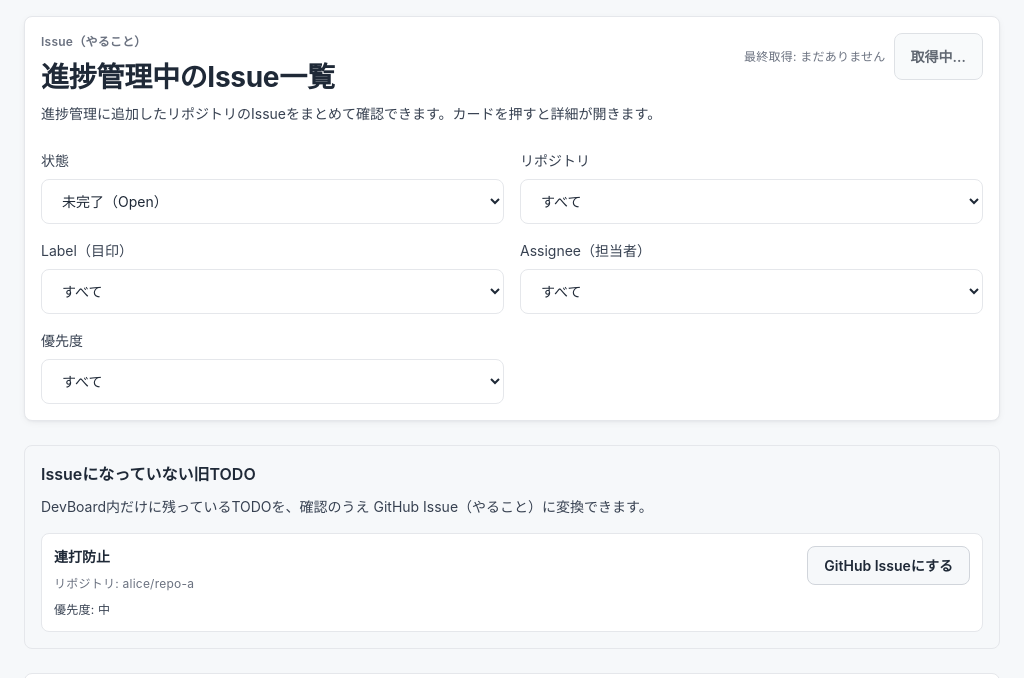
Scenario: IssuesHome › legacy unlinked todos › allows only one in-flight conversion when the button is clicked twice
The image size is (1024, 678).
Click the button "GitHub Issueにする" at x=889, y=565, box x1=807 y1=546 x2=970 y2=585
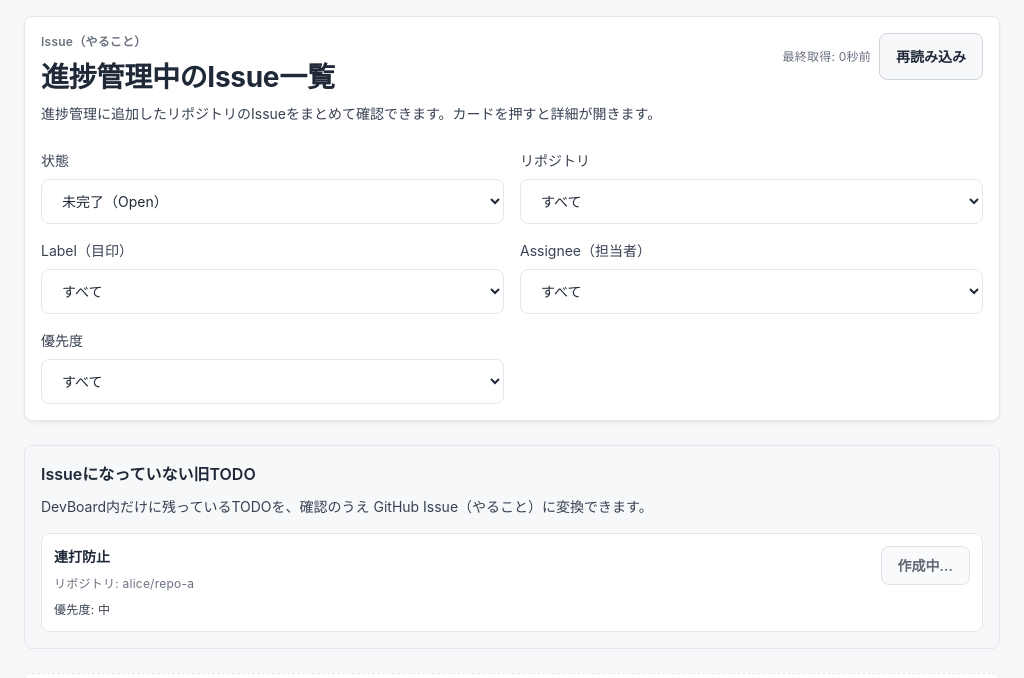
Click the button named "GitHub Issueにする" at x=925, y=565, box x1=881 y1=546 x2=970 y2=585
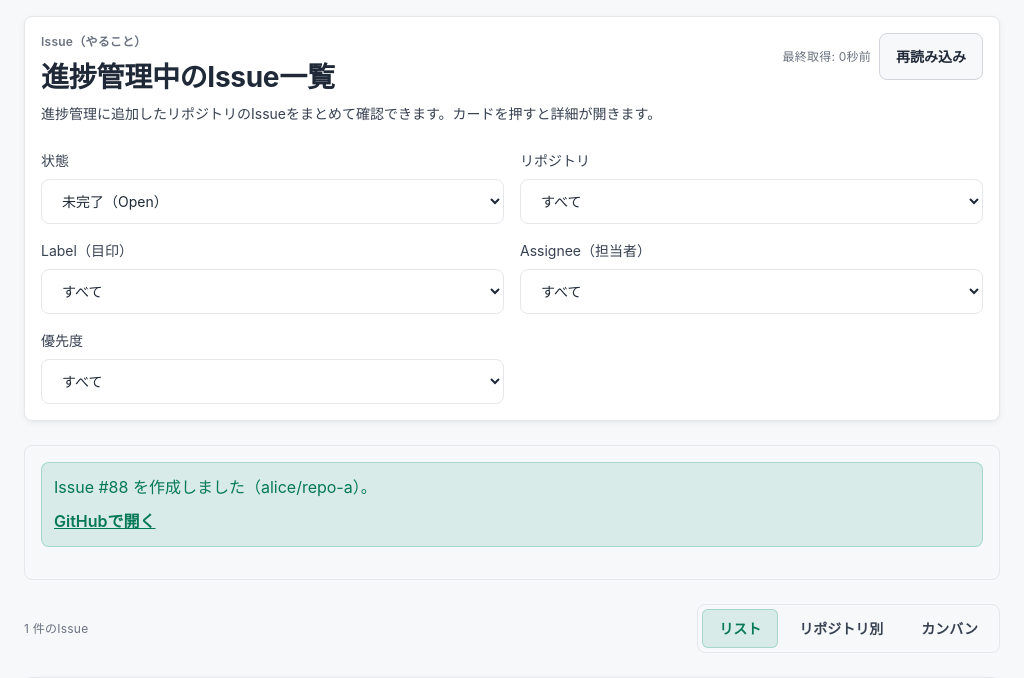
Now the message shows "Issue #88", box x1=41 y1=462 x2=983 y2=547
